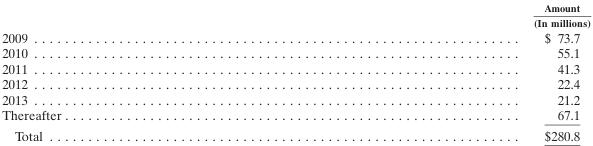table: (1, 0, 590, 143)
table column: (1, 0, 296, 143), (296, 0, 590, 143)
table column header: (1, 0, 590, 28)
table row: (1, 0, 590, 28), (1, 124, 590, 143), (1, 106, 590, 124), (1, 28, 590, 44), (1, 44, 590, 60), (1, 75, 590, 91), (1, 60, 590, 75), (1, 91, 590, 106)
